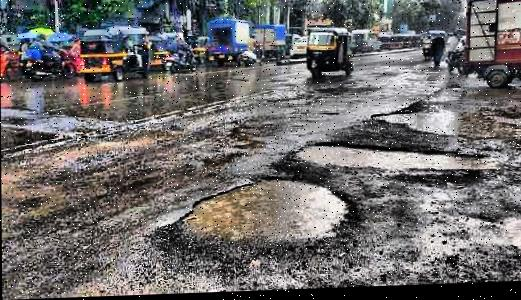pothole: (172, 173, 356, 249), (293, 138, 486, 180)
